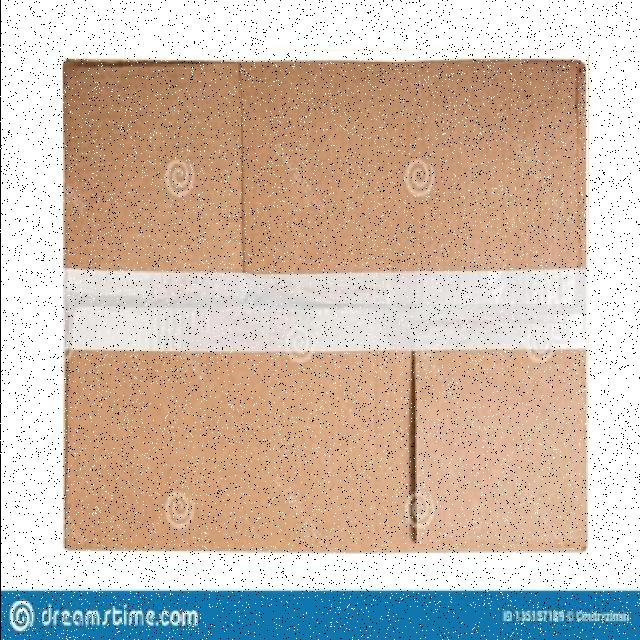normal: (62, 51, 588, 554)
